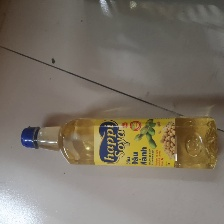Simply: (15, 113, 221, 173)
